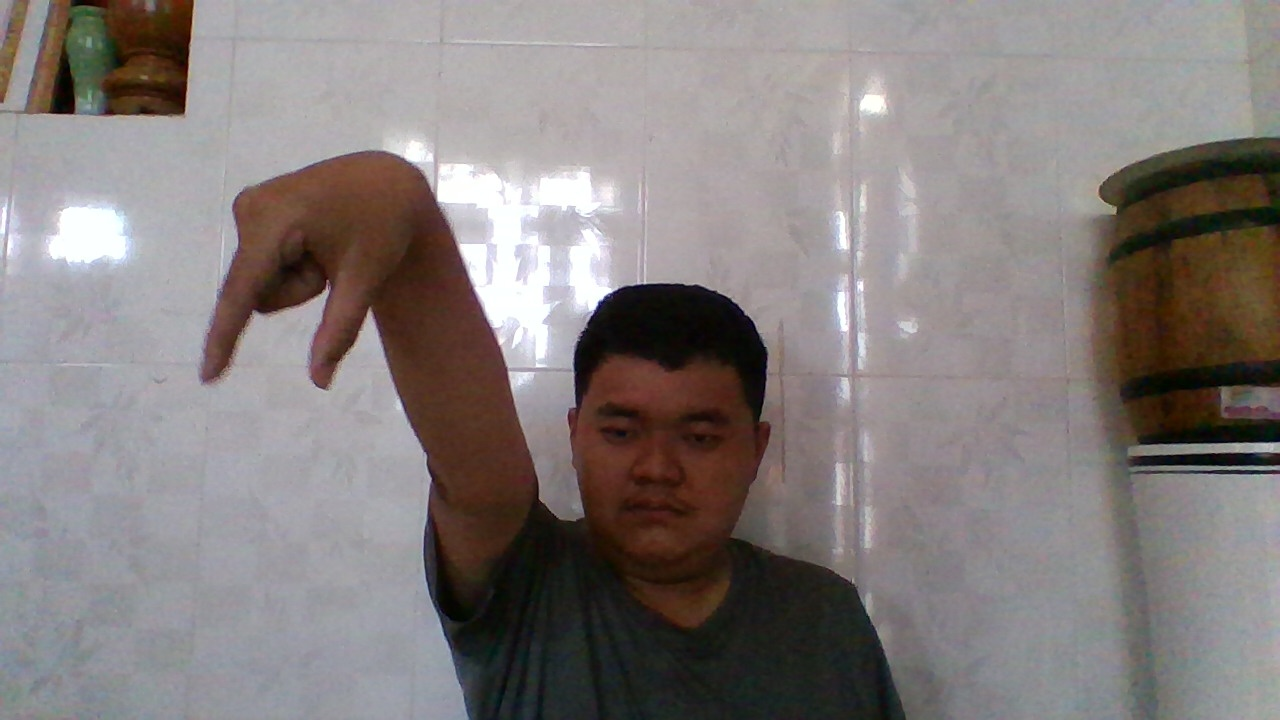Q: (191, 158, 421, 394)
